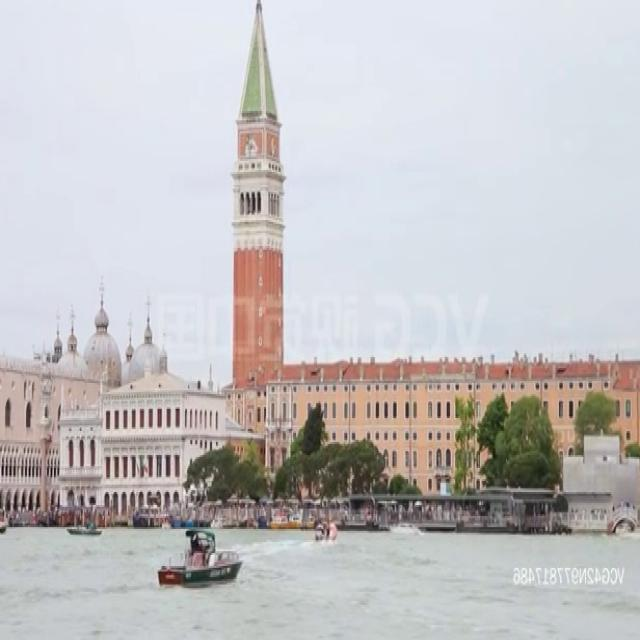houseboat: (158, 522, 245, 586), (313, 509, 337, 545), (63, 520, 102, 538), (0, 504, 10, 536)
